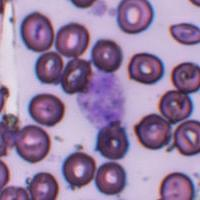N: (77, 71, 126, 130)
